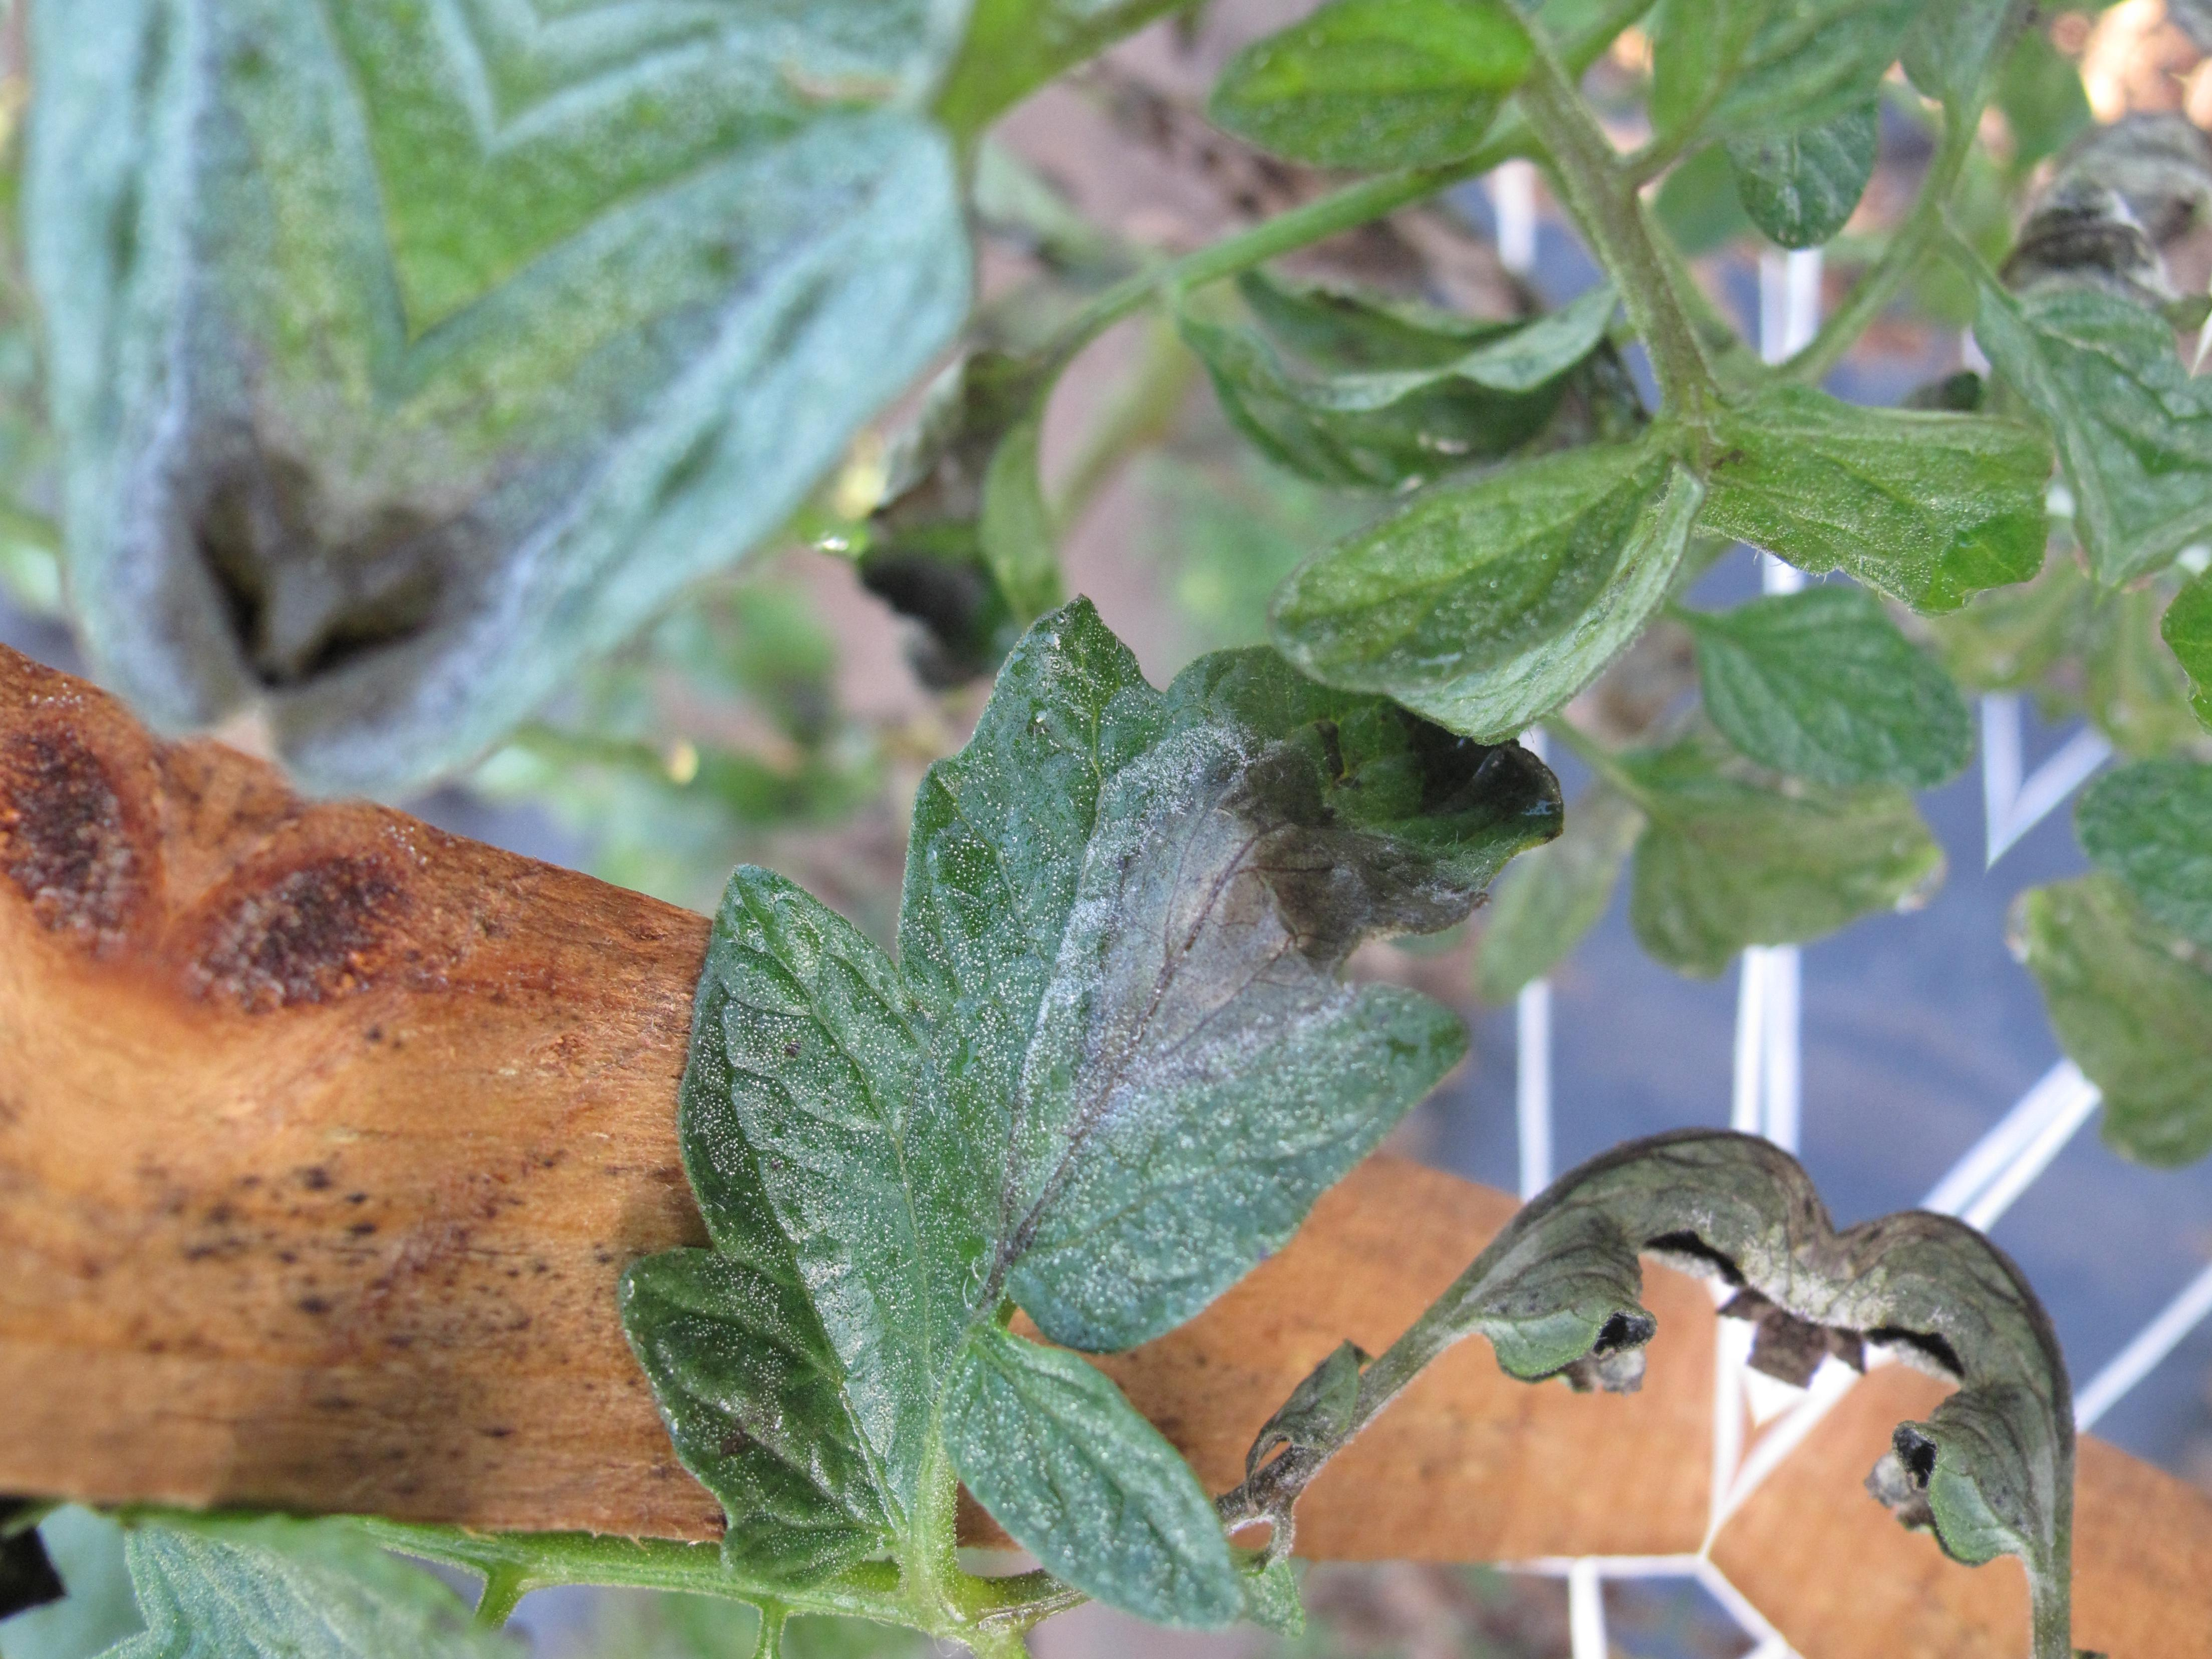Tomato leaf late blight: (437, 345, 1735, 1659)
